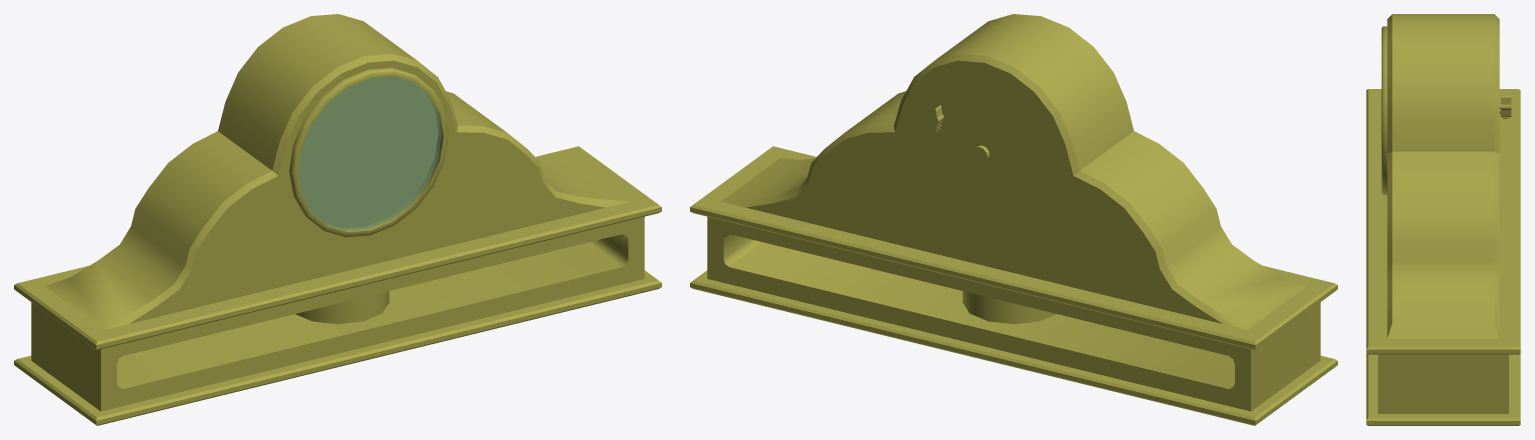
The model's file is TableClock_Model.fbx.
3 views of the same model, side by side, from view 1: azimuth 30°, elevation 25°; view 2: azimuth 150°, elevation 25°; view 3: azimuth 270°, elevation 25° (orthographic). The views are drawn at different scales.
Parts seen in each view (by area): view 1: ClockDetail1, ClockDetail2, ClockDetail3; view 2: ClockDetail1; view 3: ClockDetail1, ClockDetail6.
Boxes of the visible parts, bbox=[...] form: ClockDetail1: bbox=[14, 14, 661, 425]; ClockDetail2: bbox=[298, 76, 441, 230]; ClockDetail3: bbox=[359, 81, 373, 166]; ClockDetail1: bbox=[690, 14, 1337, 425]; ClockDetail1: bbox=[1366, 14, 1520, 425]; ClockDetail6: bbox=[1499, 95, 1511, 117].
Size of the model in its own units: 44.61 by 22.02 by 11.23.
